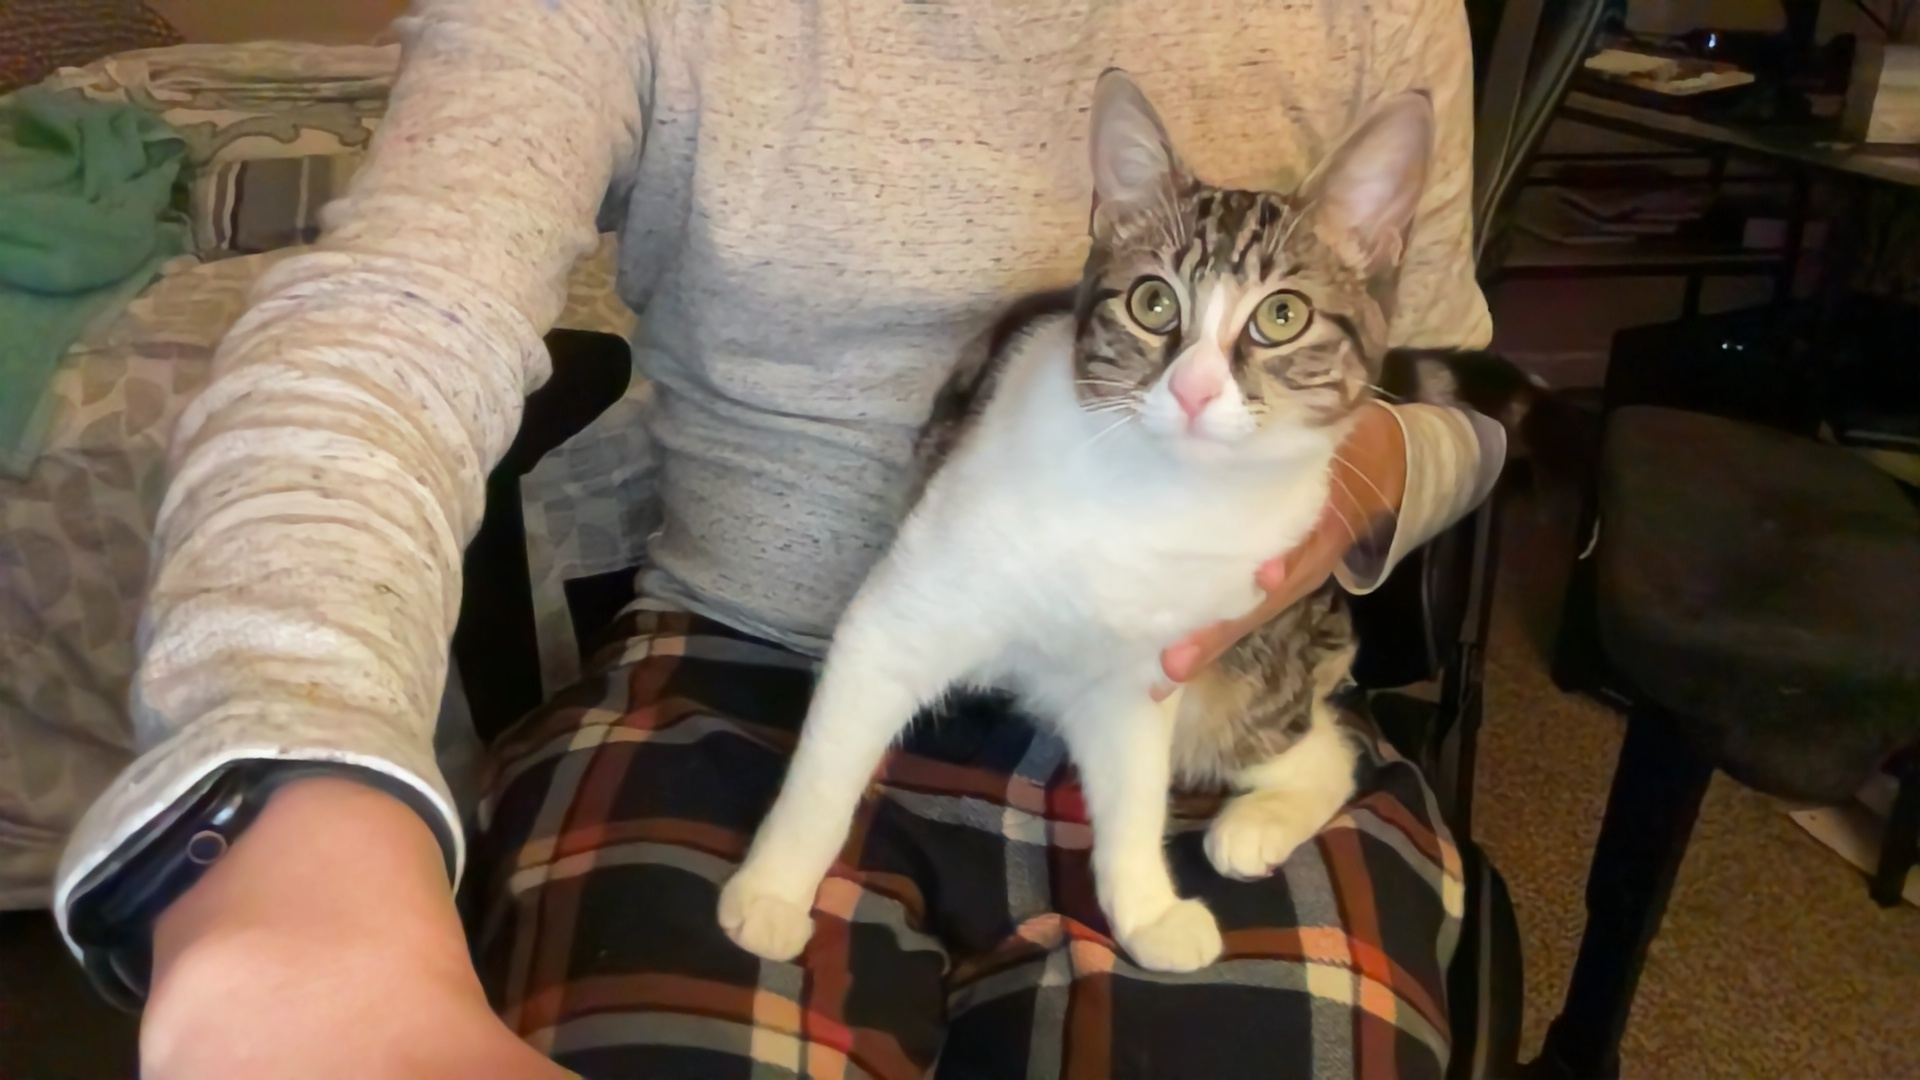cat: (725, 47, 1429, 1000)
